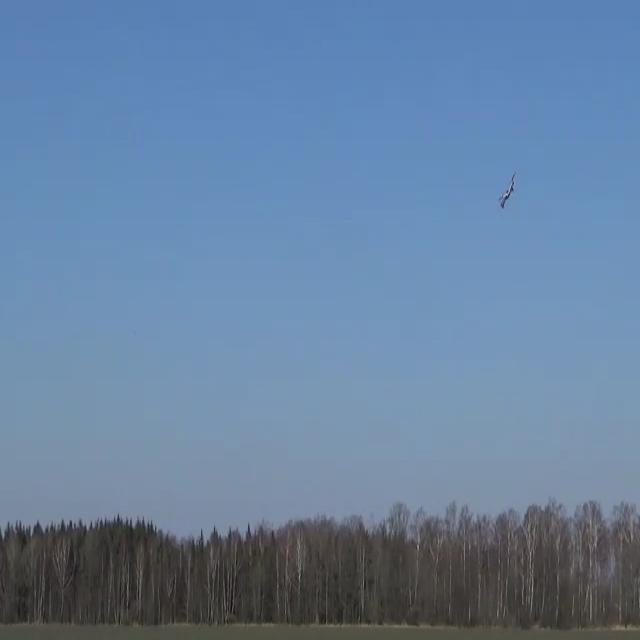Drone: (489, 178, 525, 215)
